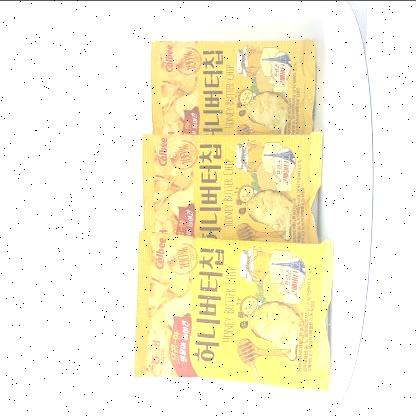Others: (128, 29, 338, 394)
